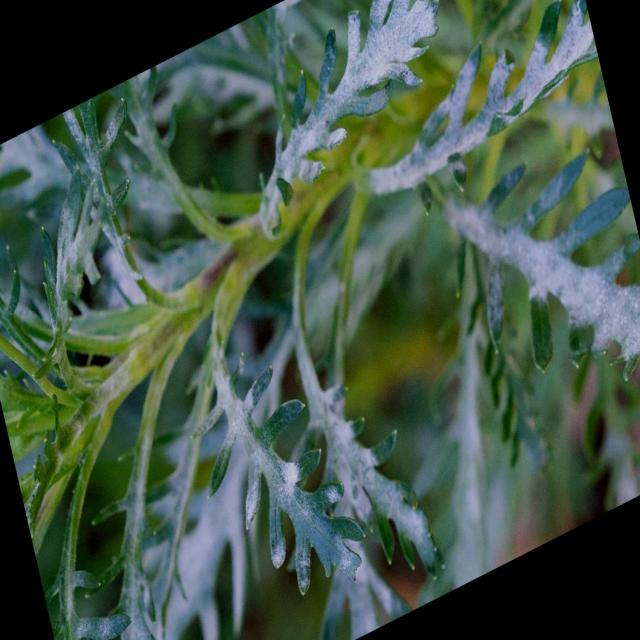Powdery Mildew: (257, 0, 439, 239), (191, 349, 365, 596), (443, 195, 639, 368)
